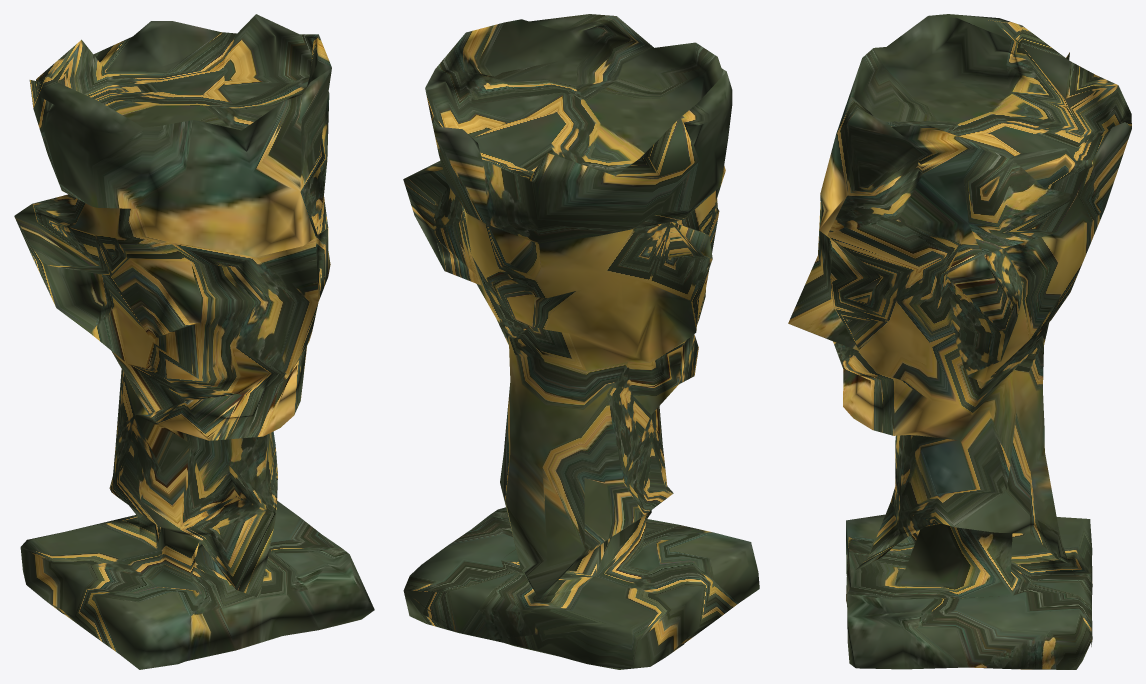
Rendered from s_head_far.glb.
3 renders of one model, left to right at view 1: azimuth 30°, elevation 25°; view 2: azimuth 150°, elevation 25°; view 3: azimuth 270°, elevation 25°, orthographic.
Visible parts, largest first — view 1: tripo_node_22cd4876-3bf0-48c0-a48e-5ec145d95ea1; view 2: tripo_node_22cd4876-3bf0-48c0-a48e-5ec145d95ea1; view 3: tripo_node_22cd4876-3bf0-48c0-a48e-5ec145d95ea1.
Boxes of the visible parts, box(x1,y1,x2,y2) form: tripo_node_22cd4876-3bf0-48c0-a48e-5ec145d95ea1: box(14, 14, 374, 669); tripo_node_22cd4876-3bf0-48c0-a48e-5ec145d95ea1: box(403, 14, 759, 669); tripo_node_22cd4876-3bf0-48c0-a48e-5ec145d95ea1: box(788, 14, 1131, 669).
Size of the model in its own units: 0.5863 by 0.995 by 0.5754.
Materials: 1 (1 with a texture image).
